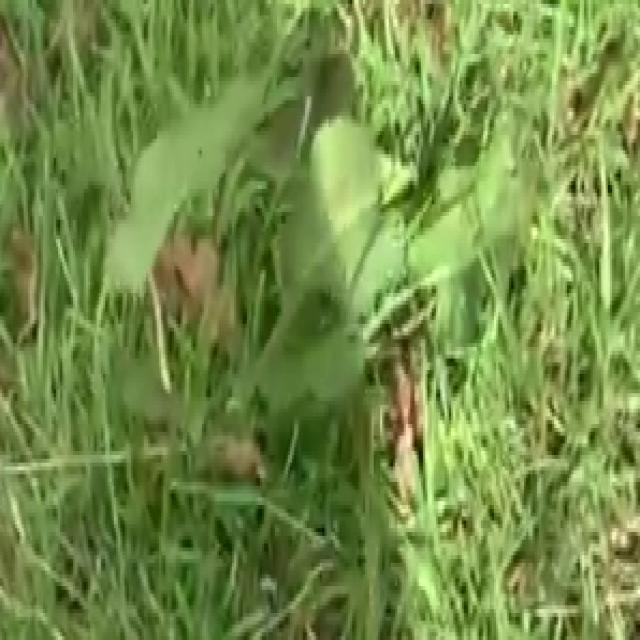organic waste: (75, 15, 539, 559)
